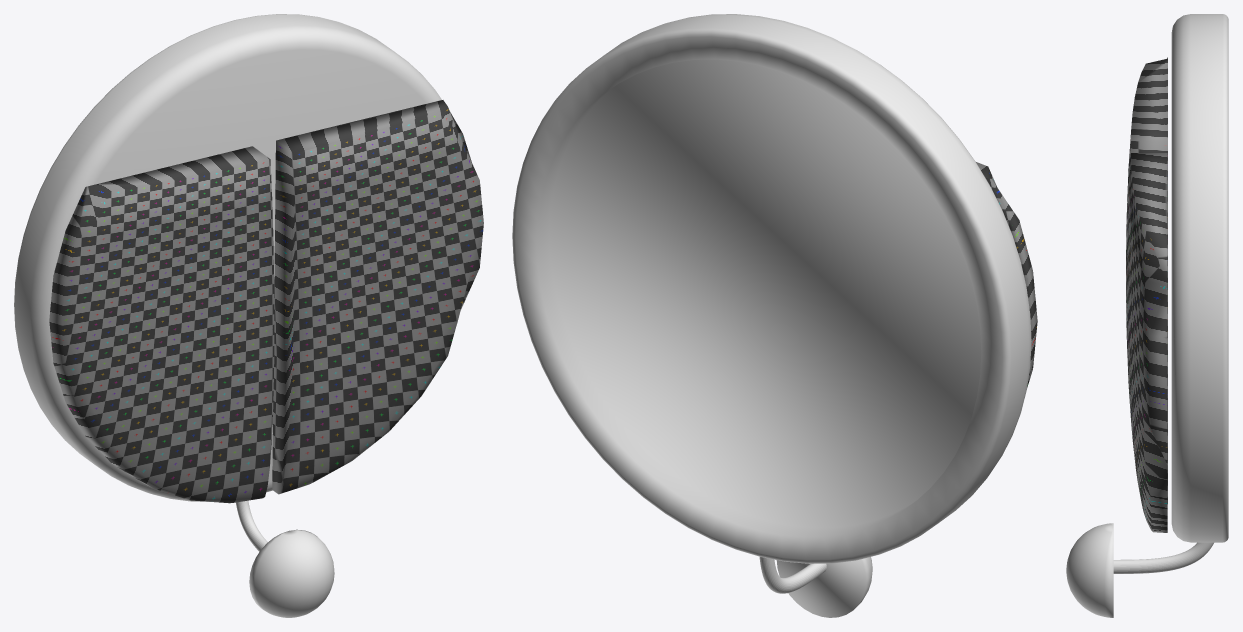
Rendered from ladybug_6.glb.
3 renders of one model, left to right at view 1: azimuth 30°, elevation 25°; view 2: azimuth 150°, elevation 25°; view 3: azimuth 270°, elevation 25°, orthographic. The views are drawn at different scales.
Visible parts, largest first — view 1: Wings, Base, Hook, Metal; view 2: Base, Hook, Wings, Metal; view 3: Base, Wings, Hook, Metal.
Part boxes in pixels (x1,y1,x2,y2): Wings: (49, 100, 483, 503); Base: (14, 14, 441, 501); Hook: (249, 529, 334, 617); Metal: (236, 500, 267, 551); Base: (512, 14, 1031, 563); Hook: (776, 557, 872, 617); Wings: (976, 162, 1037, 387); Metal: (759, 557, 826, 593); Base: (1171, 14, 1228, 542); Wings: (1126, 57, 1167, 532); Hook: (1066, 523, 1113, 617); Metal: (1113, 542, 1213, 573).
Bounding box in the file's own units: 1.61 × 1.93 × 0.494.
1 material, 1 textured.
